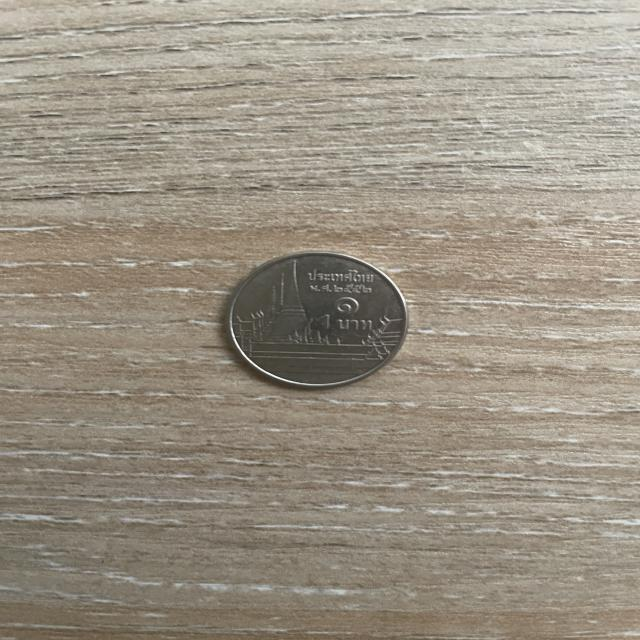1 Bath: (215, 243, 422, 403)
